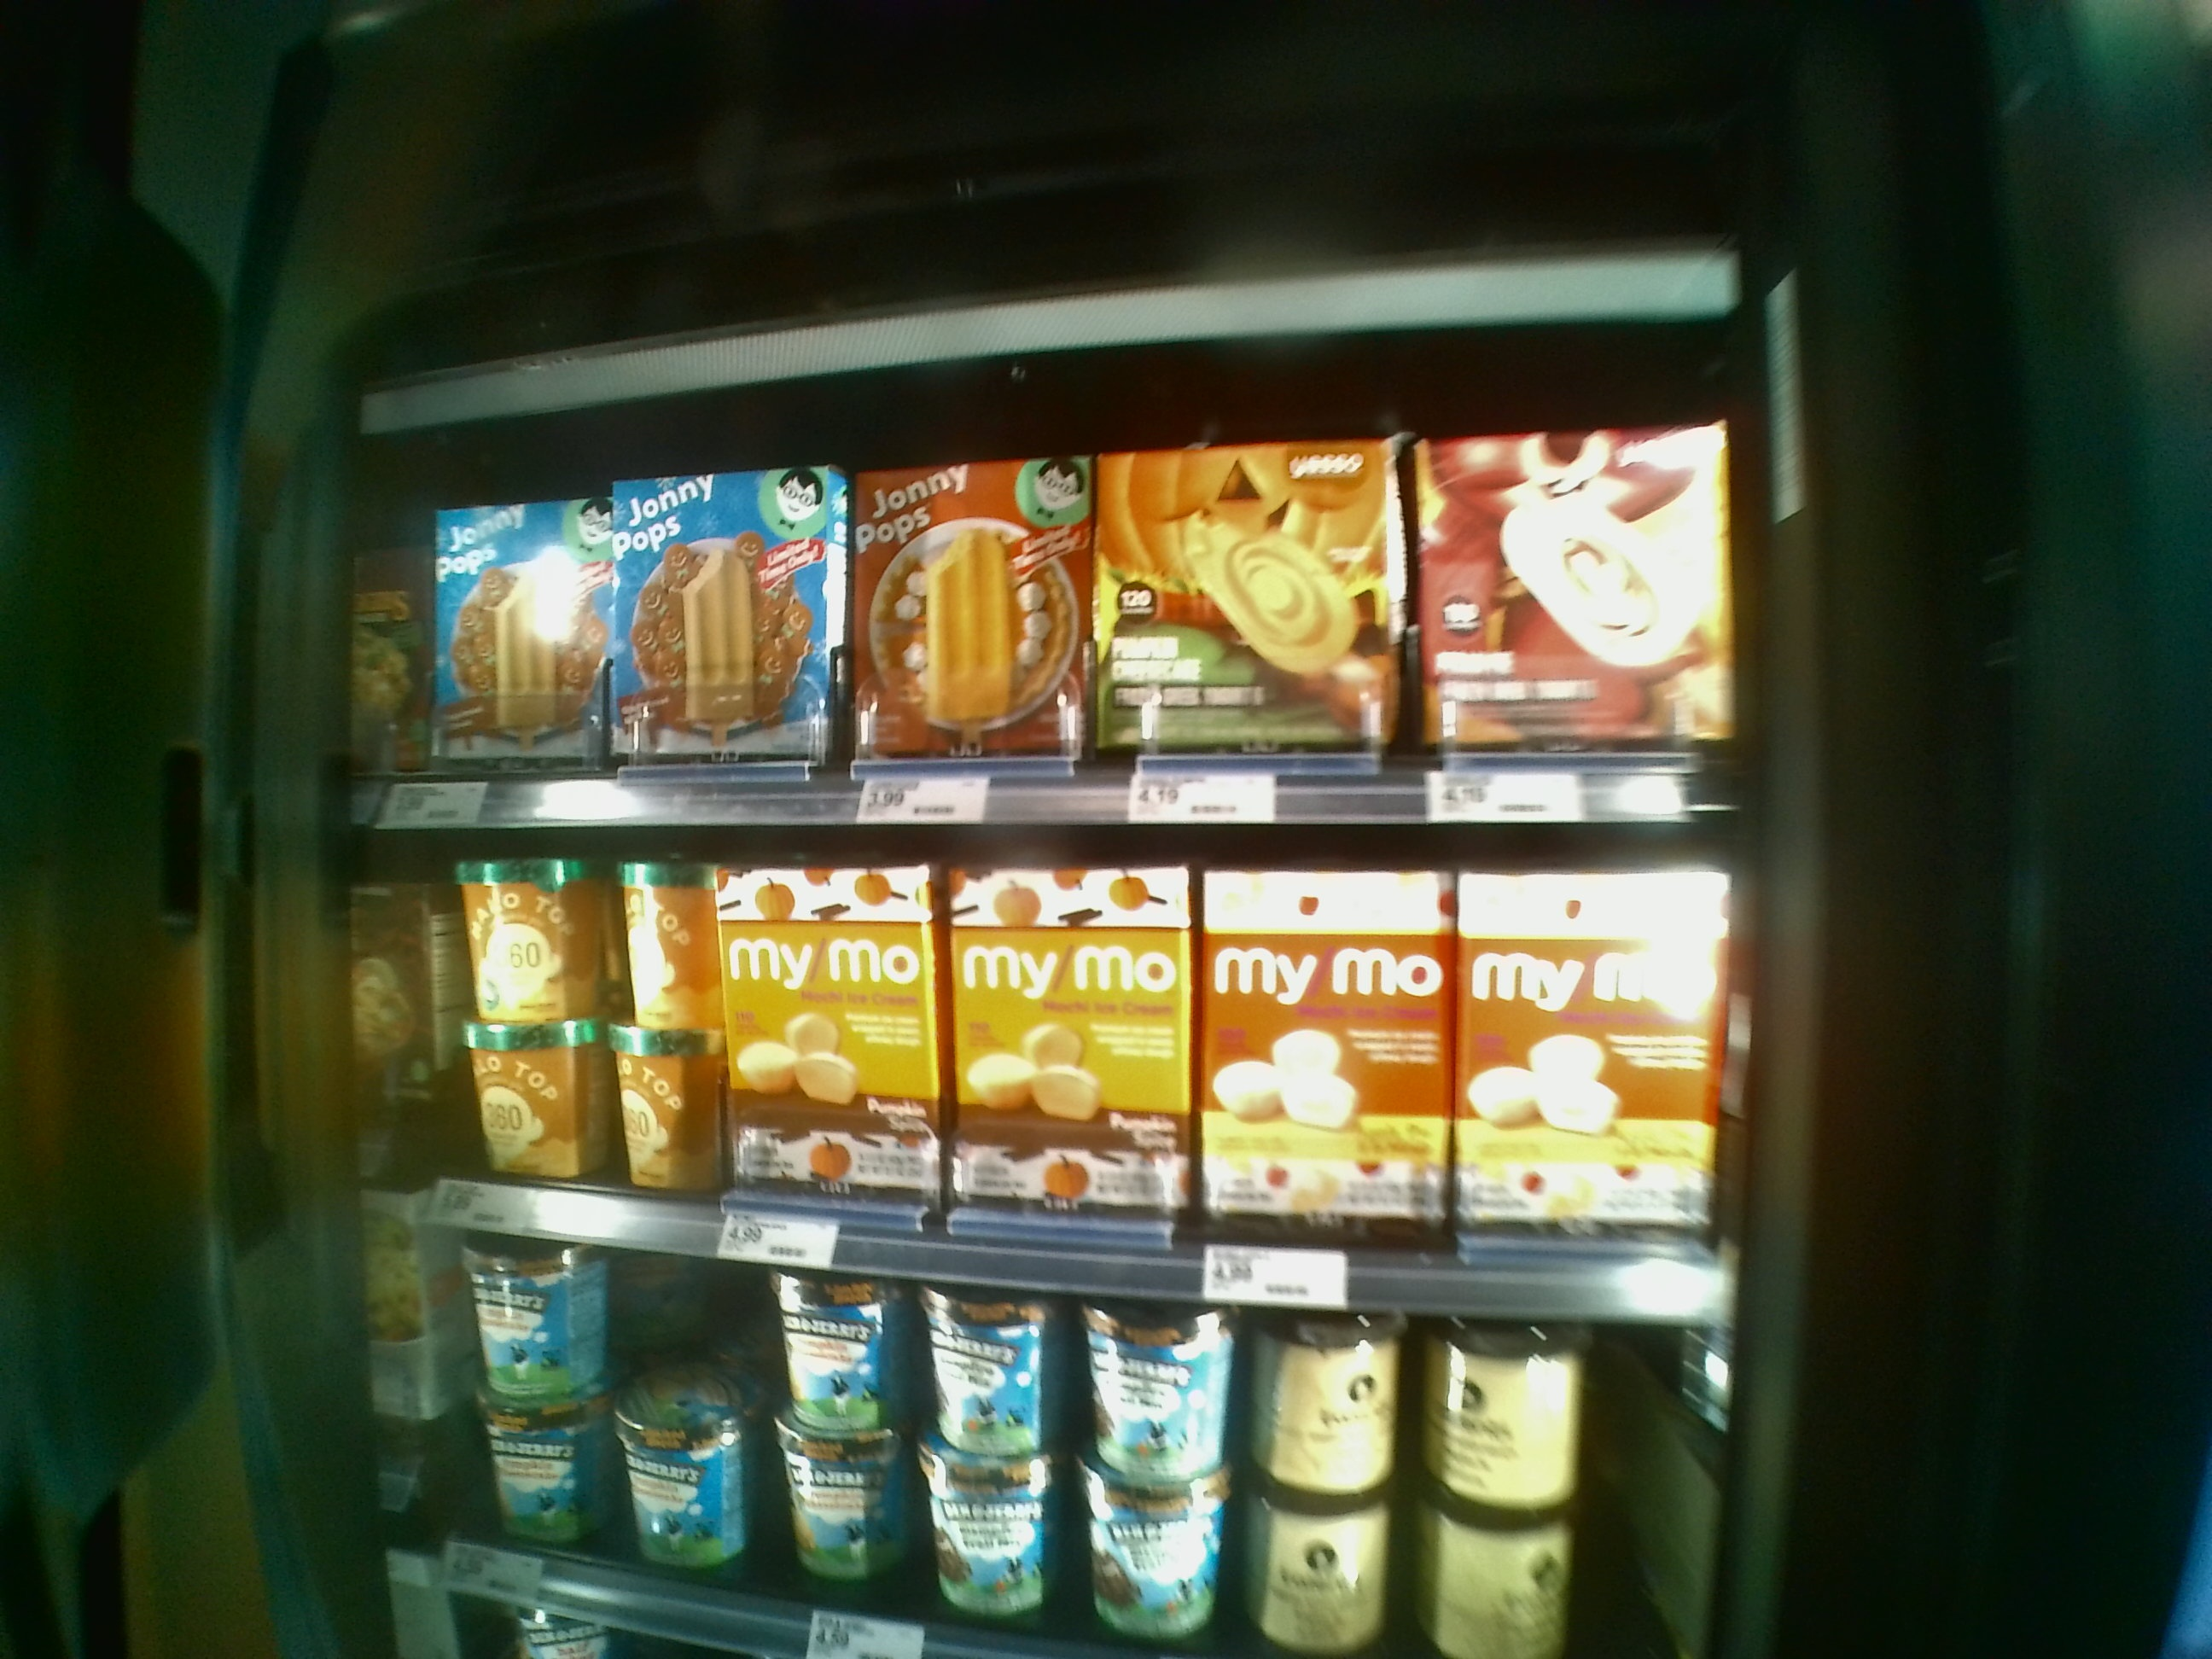shelf: (340, 835, 1742, 1321), (354, 443, 1754, 829)
